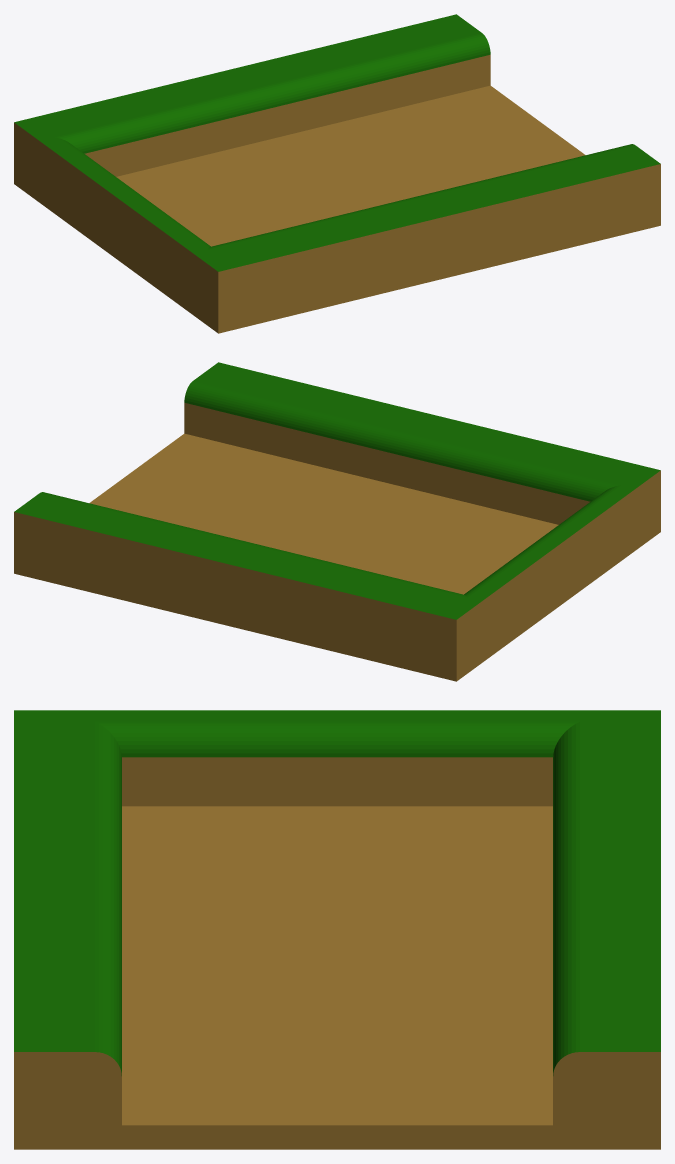
The model's file is Forest Trail Start(T).fbx.
3 renders of one model, top to bottom at view 1: azimuth 30°, elevation 25°; view 2: azimuth 150°, elevation 25°; view 3: azimuth 270°, elevation 25°, orthographic. The views are drawn at different scales.
Parts seen in each view (by area): view 1: Forest Trail Start; view 2: Forest Trail Start; view 3: Forest Trail Start.
Part boxes in pixels (x1,y1,x2,y2): Forest Trail Start: (14,14,660,333); Forest Trail Start: (14,362,660,681); Forest Trail Start: (14,710,660,1149).
Size of the model in its own units: 1500 by 200 by 1200.
